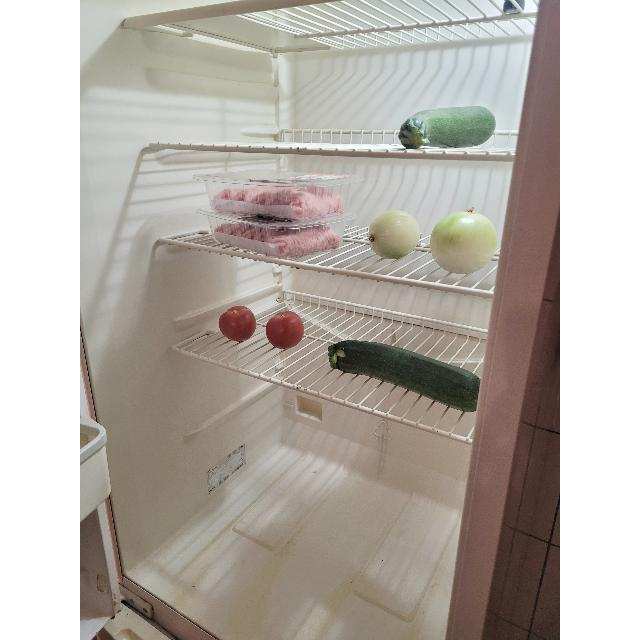meat: (207, 180, 345, 217), (209, 218, 343, 256)
onion: (432, 207, 498, 275), (368, 210, 420, 260)
tomato: (216, 304, 254, 342), (269, 312, 303, 346)
zucchini: (328, 339, 478, 413), (403, 107, 495, 149)
